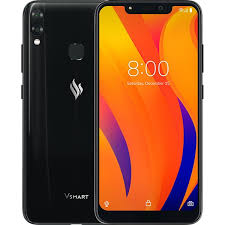vsmart: (92, 1, 204, 223), (18, 1, 98, 225)
